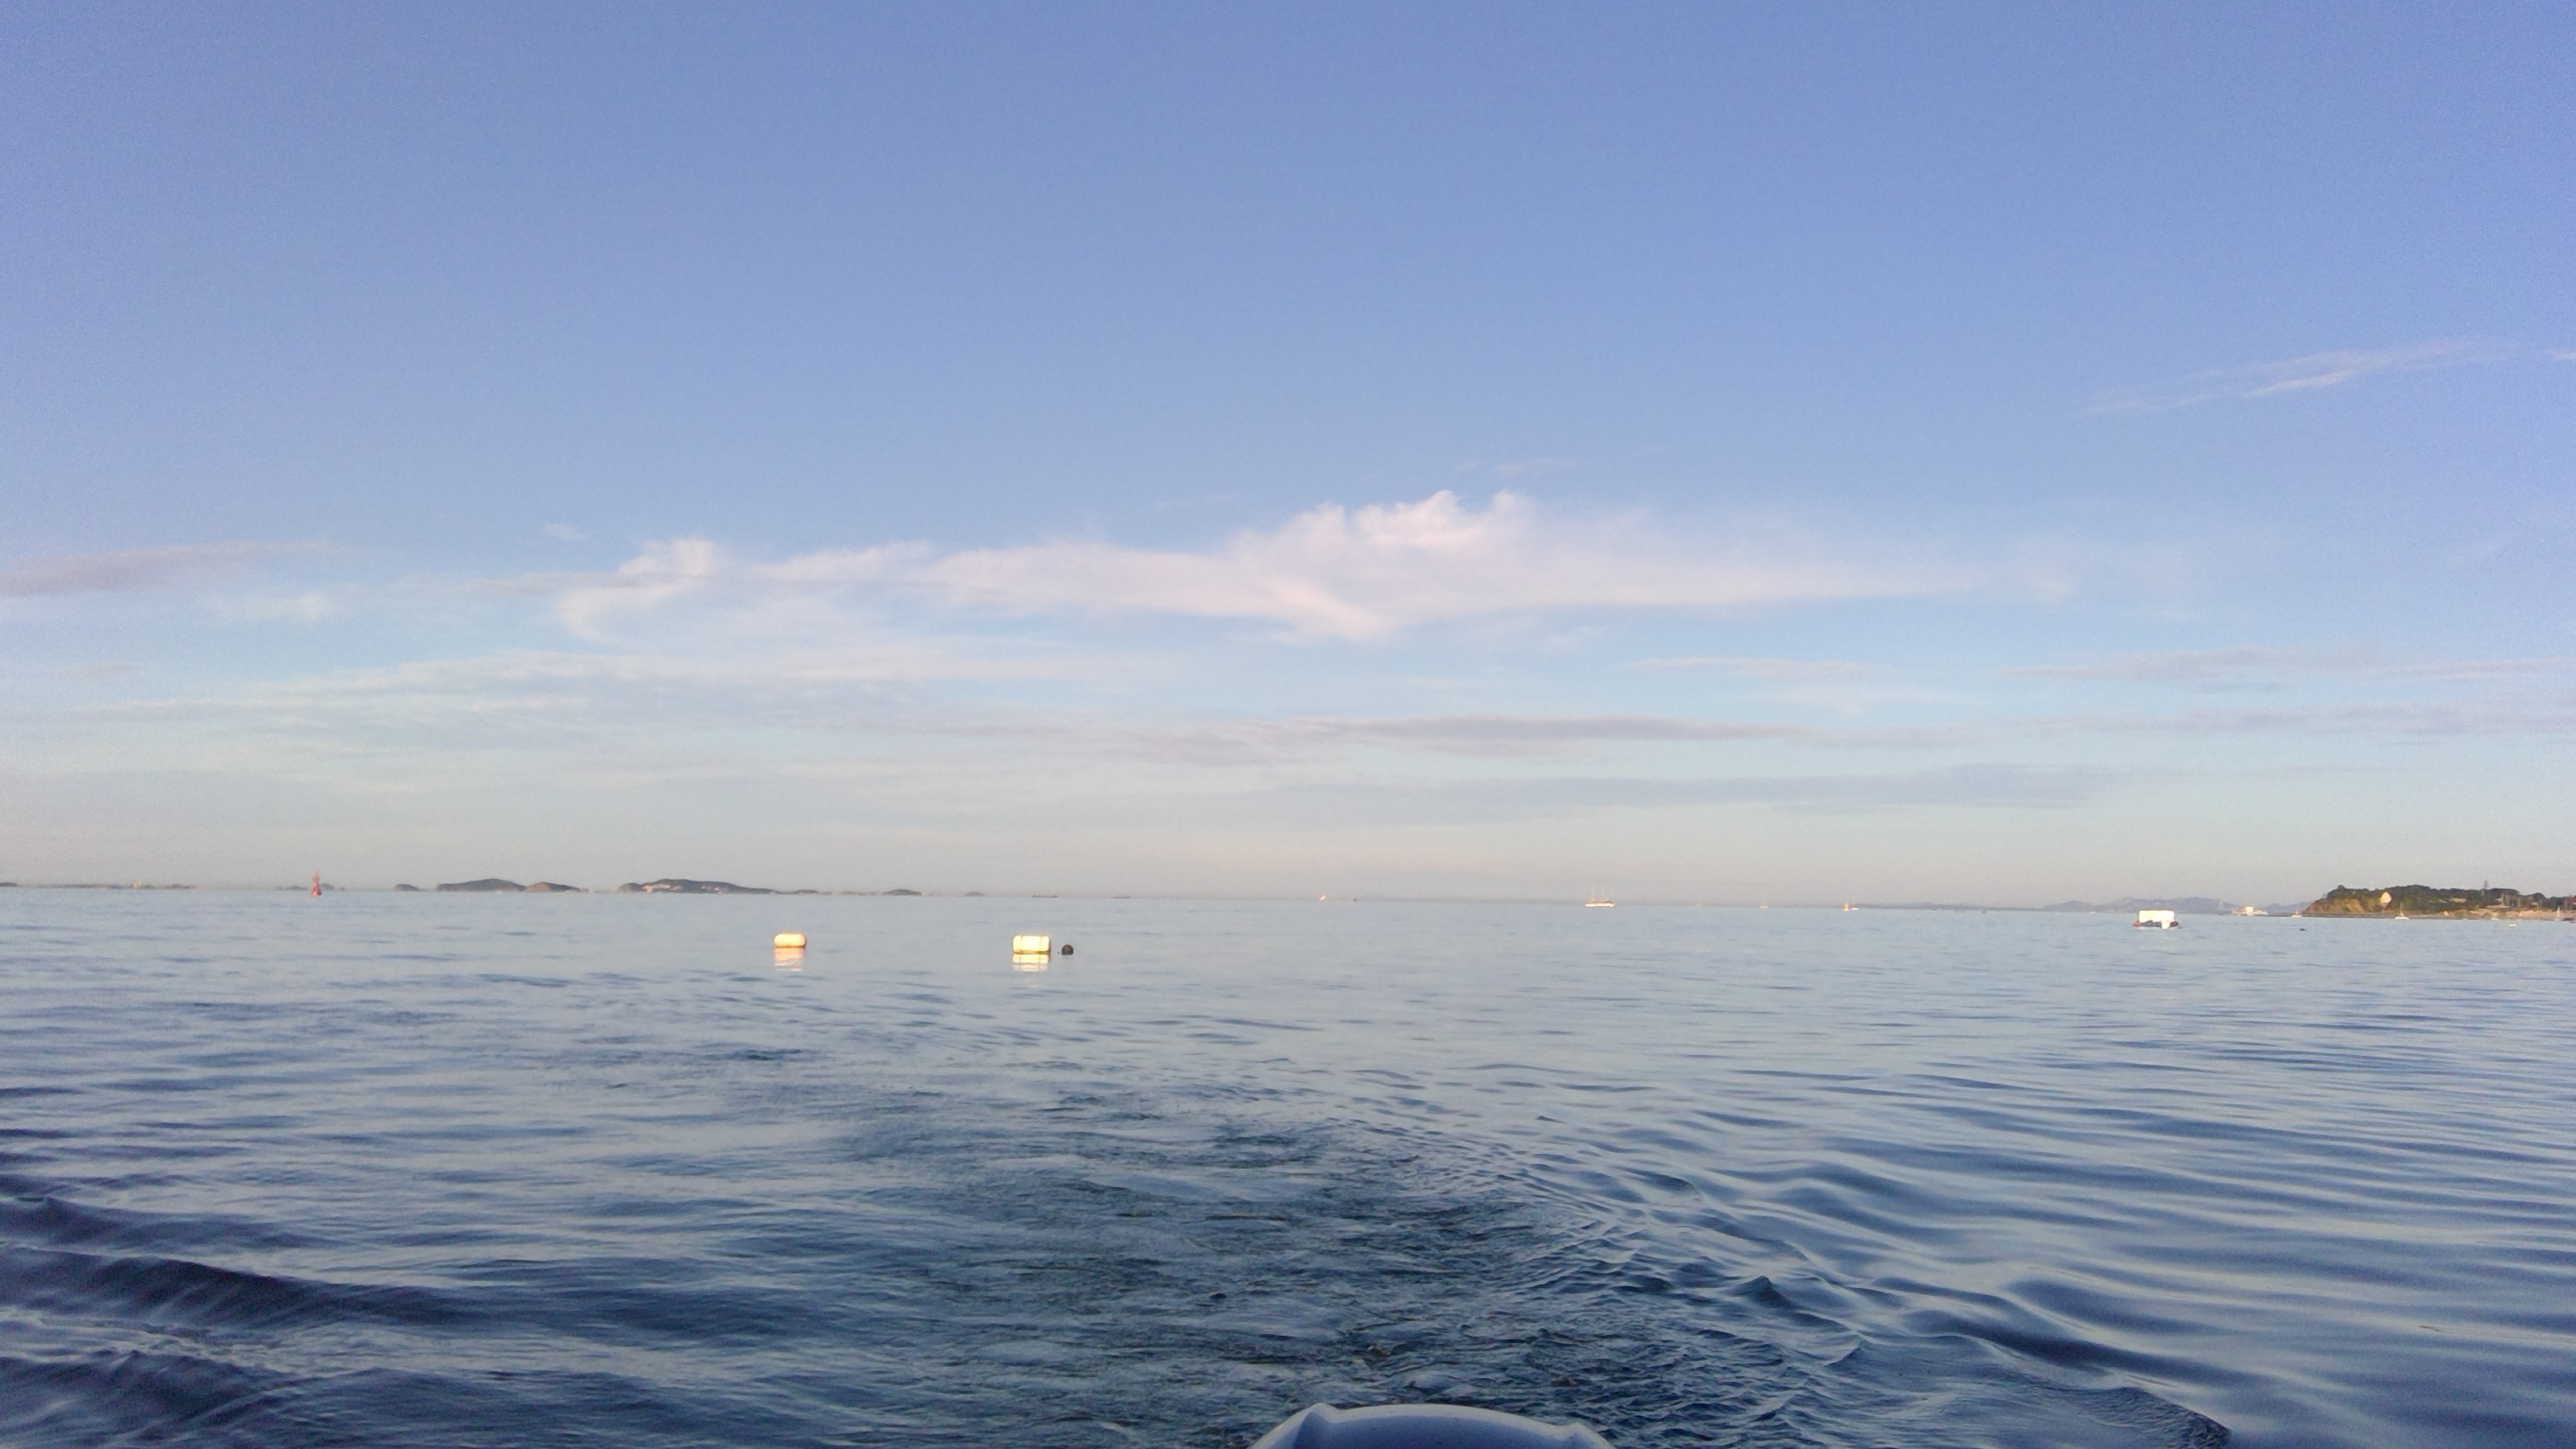ship: (998, 922, 1090, 975), (761, 920, 810, 961)
